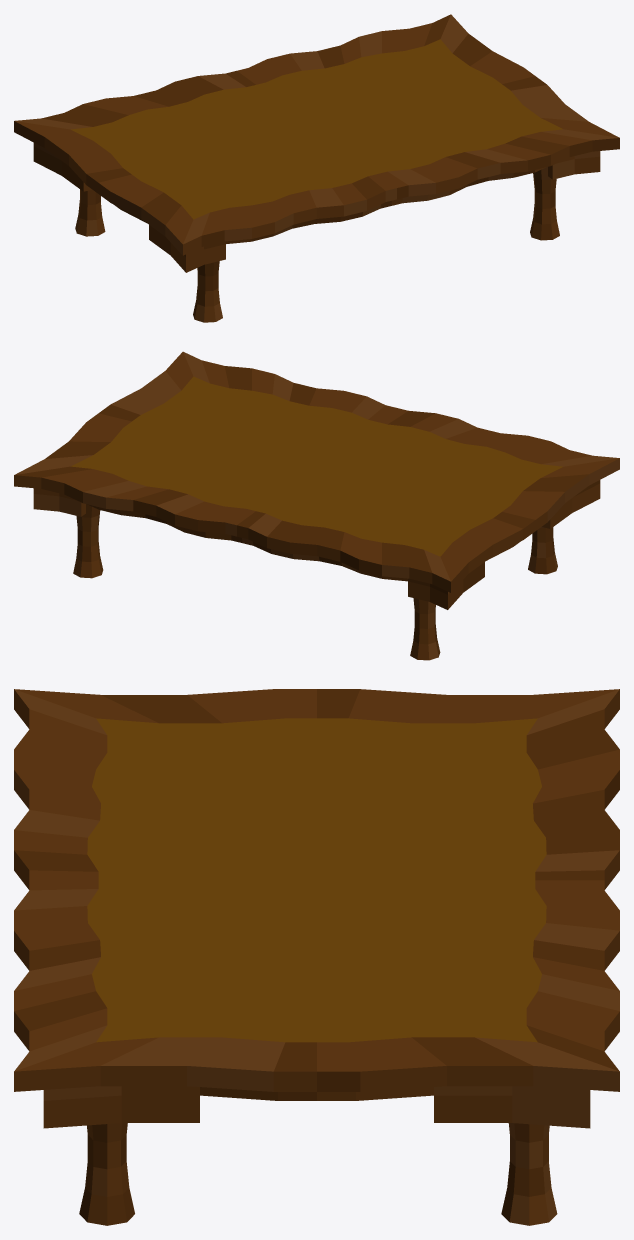
The model's file is castle_town_interior_coffee_table.fbx.
3 views of the same model, one above another, from view 1: azimuth 30°, elevation 25°; view 2: azimuth 150°, elevation 25°; view 3: azimuth 270°, elevation 25° (orthographic). The views are drawn at different scales.
Parts seen in each view (by area): view 1: dining table.002; view 2: dining table.002; view 3: dining table.002.
Boxes of the visible parts, x1,y1,x2,y2 form: dining table.002: (14,14,619,322); dining table.002: (14,351,619,660); dining table.002: (14,689,619,1225).
Bounding box in the file's own units: 1428 × 482 × 2132.
